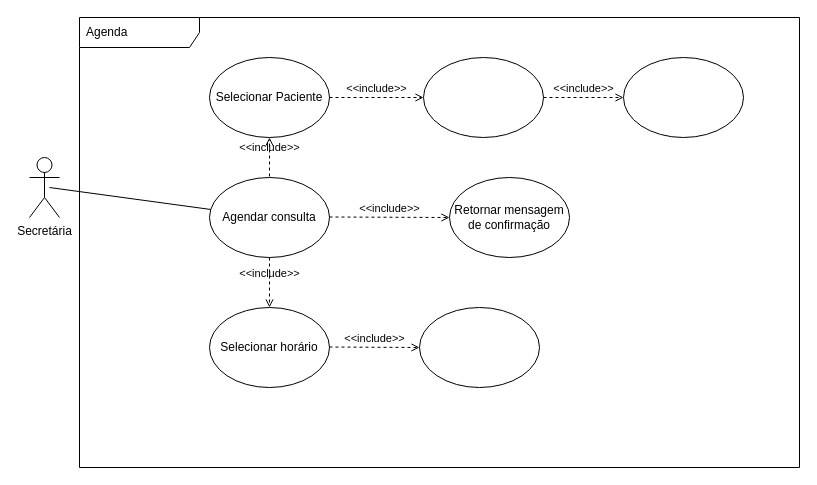
Image size: 817x485. Some labels were removed from this diagram. The box of each missing label's shape, as (x1, y1, x2, y2) in pixels:
Buscar Paciente: (422, 56, 544, 138)
Paciente estar cadastrado: (622, 56, 744, 138)
Pesquisar horário e data: (418, 306, 540, 388)
